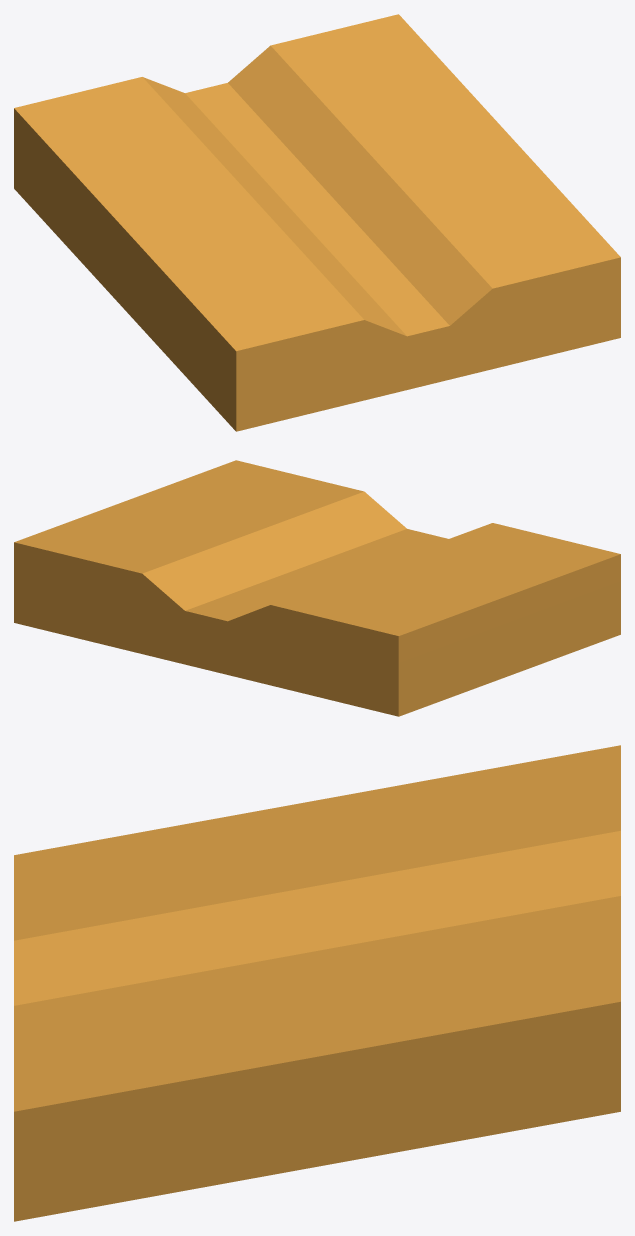
File: tiles-tile-river-basin-hill.glb
The picture shows the model from 3 angles, top to bottom: view 1: azimuth 30°, elevation 25°; view 2: azimuth 150°, elevation 25°; view 3: azimuth 270°, elevation 25°; orthographic projection. The views are drawn at different scales.
Visible parts, largest first — view 1: tile-river-basin-hill; view 2: tile-river-basin-hill; view 3: tile-river-basin-hill.
Boxes of the visible parts, x1,y1,x2,y2 form: tile-river-basin-hill: [14, 14, 620, 431]; tile-river-basin-hill: [14, 460, 620, 716]; tile-river-basin-hill: [14, 745, 620, 1221].
Bounding box in the file's own units: 30 × 12 × 30.
